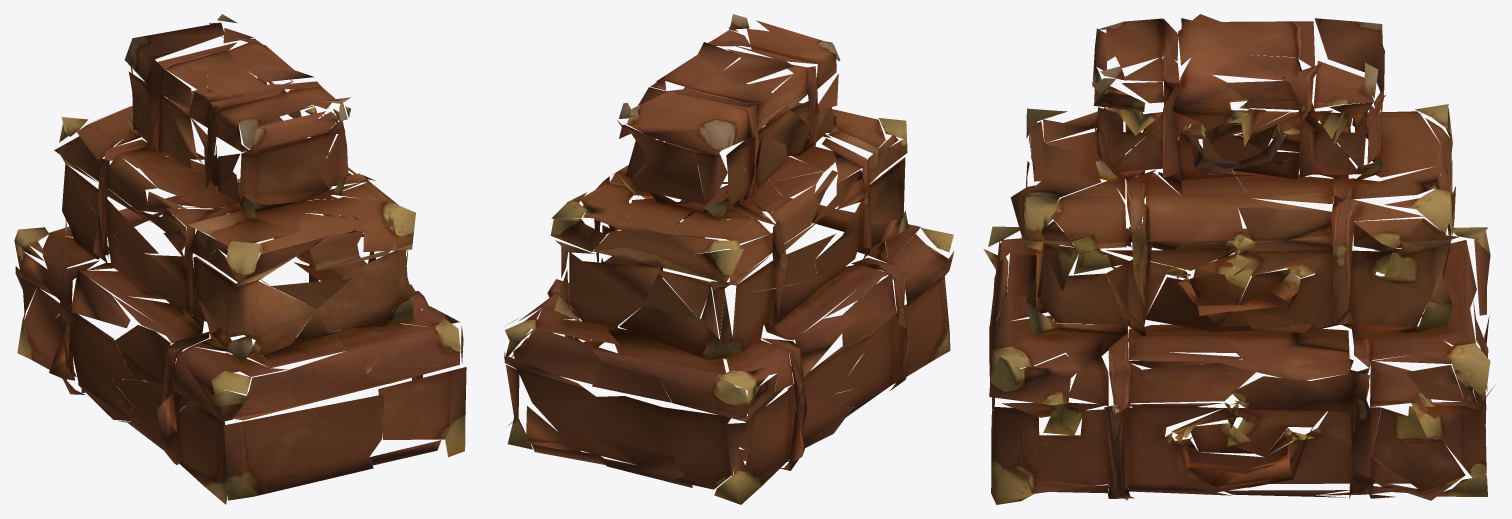
The model's file is penn_luggage.glb.
The picture shows the model from 3 angles, left to right: view 1: azimuth 30°, elevation 25°; view 2: azimuth 150°, elevation 25°; view 3: azimuth 270°, elevation 25°; orthographic projection. The views are drawn at different scales.
Visible parts, largest first — view 1: tripo_node_7cef07ee-064d-48fa-b87e-88677eebe815; view 2: tripo_node_7cef07ee-064d-48fa-b87e-88677eebe815; view 3: tripo_node_7cef07ee-064d-48fa-b87e-88677eebe815.
Boxes of the visible parts, bbox=[...] form: tripo_node_7cef07ee-064d-48fa-b87e-88677eebe815: bbox=[14, 14, 466, 504]; tripo_node_7cef07ee-064d-48fa-b87e-88677eebe815: bbox=[504, 14, 954, 504]; tripo_node_7cef07ee-064d-48fa-b87e-88677eebe815: bbox=[983, 14, 1495, 504].
Bounding box in the file's own units: 0.7437 × 0.8816 × 1.01.
1 material, 1 textured.
